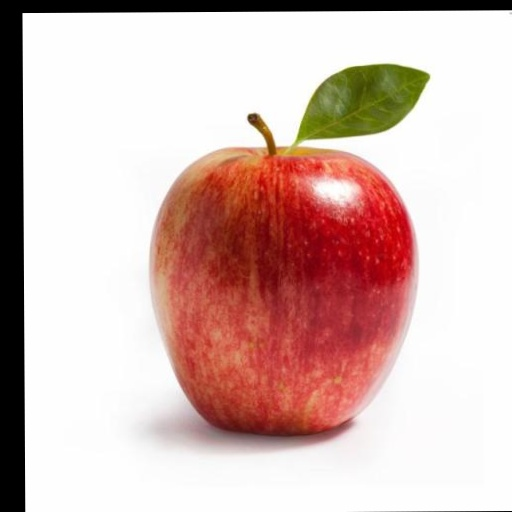fruit: (151, 115, 417, 434)
